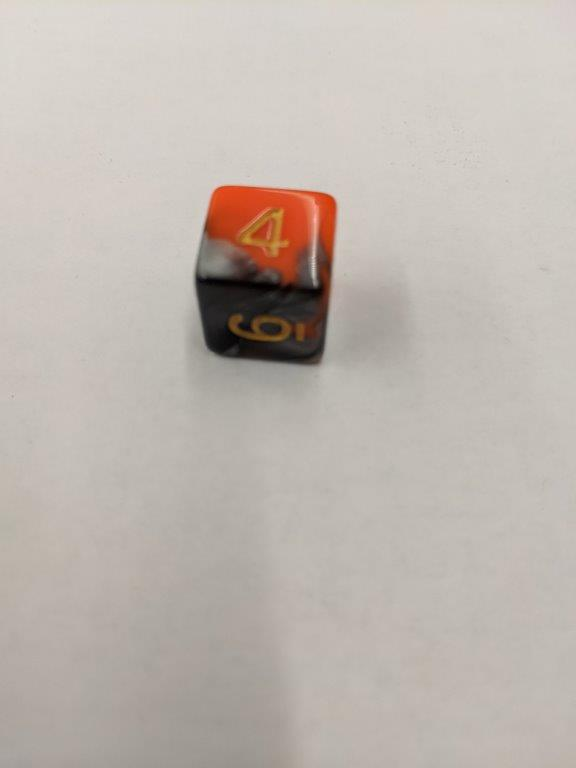d6-4: (195, 182, 338, 367)
